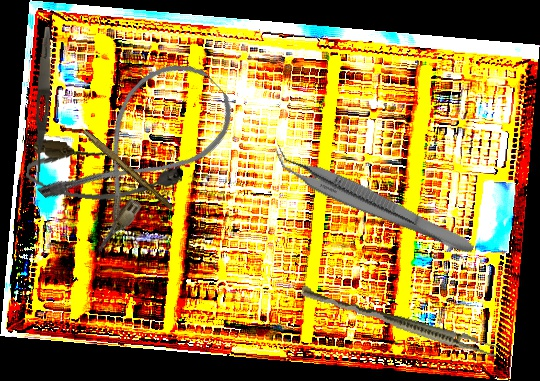Cannula: (32, 44, 248, 257), (24, 137, 185, 212)
Dressing Forceps: (31, 26, 55, 184)
Scalpel Handle: (79, 128, 176, 211)
Tissue Forceps: (266, 144, 482, 258), (298, 285, 500, 359)
